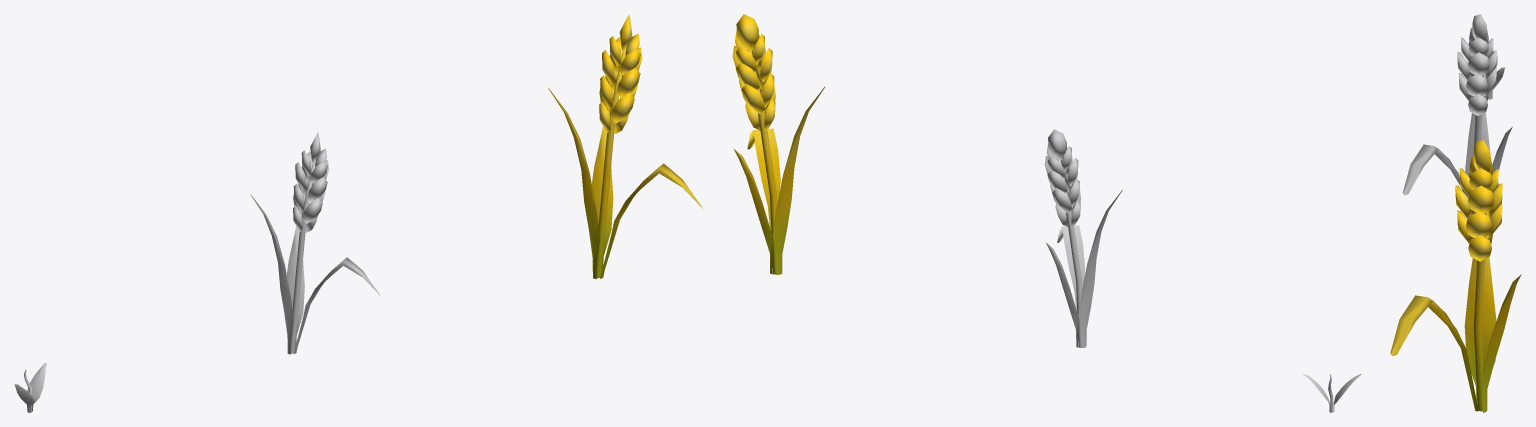
Rendered from SM_Rice.fbx.
The picture shows the model from 3 angles, left to right: view 1: azimuth 30°, elevation 25°; view 2: azimuth 150°, elevation 25°; view 3: azimuth 270°, elevation 25°; orthographic projection. The views are drawn at different scales.
Visible parts, largest first — view 1: SN_Rice3, SN_Rice2, SN_Rice1; view 2: SN_Rice3, SN_Rice2; view 3: SN_Rice3, SN_Rice2, SN_Rice1.
Boxes of the visible parts, <box> form: SN_Rice3: <box>548,14,702,279</box>; SN_Rice2: <box>250,132,380,354</box>; SN_Rice1: <box>14,363,46,412</box>; SN_Rice3: <box>732,14,824,274</box>; SN_Rice2: <box>1044,129,1122,347</box>; SN_Rice3: <box>1390,140,1521,412</box>; SN_Rice2: <box>1403,14,1512,197</box>; SN_Rice1: <box>1488,55,1505,99</box>.
Bounding box in the file's own units: 8155 × 3031 × 1256.
